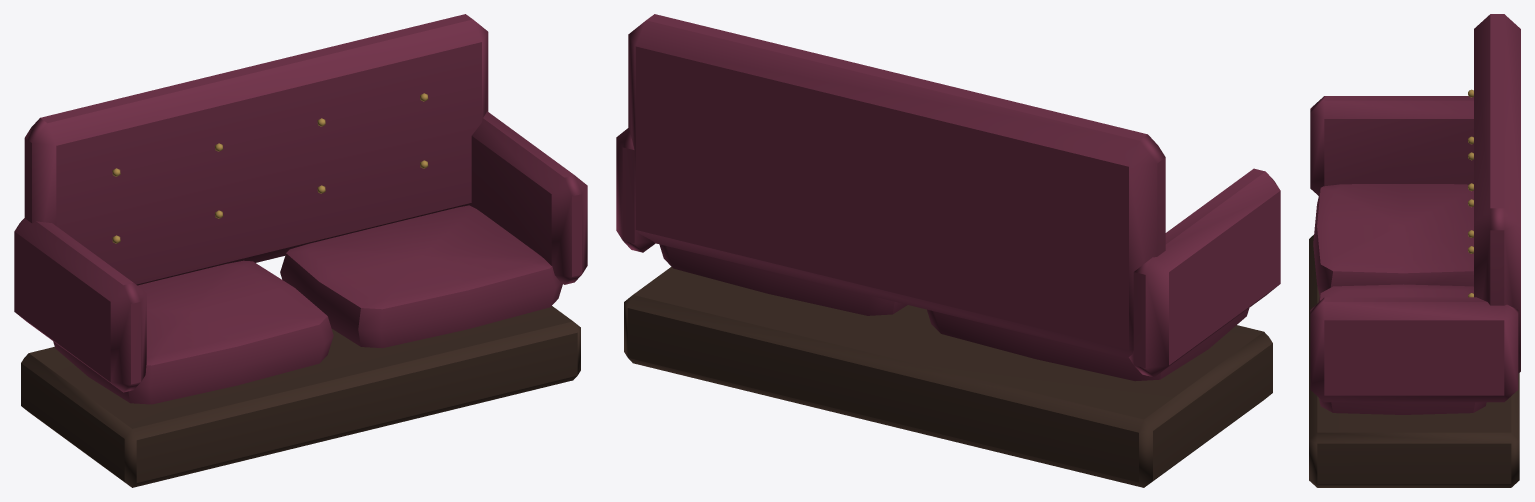
The model's file is booth_velvet.glb.
3 renders of one model, left to right at view 1: azimuth 30°, elevation 25°; view 2: azimuth 150°, elevation 25°; view 3: azimuth 270°, elevation 25°, orthographic. The views are drawn at different scales.
Visible parts, largest first — view 1: booth_velvet; view 2: booth_velvet; view 3: booth_velvet.
Boxes of the visible parts, x1=… form: booth_velvet: x1=14, y1=14, x2=587, y2=487; booth_velvet: x1=616, y1=14, x2=1280, y2=487; booth_velvet: x1=1309, y1=14, x2=1520, y2=487.
Size of the model in its own units: 1.86 by 1.1 by 0.765.
